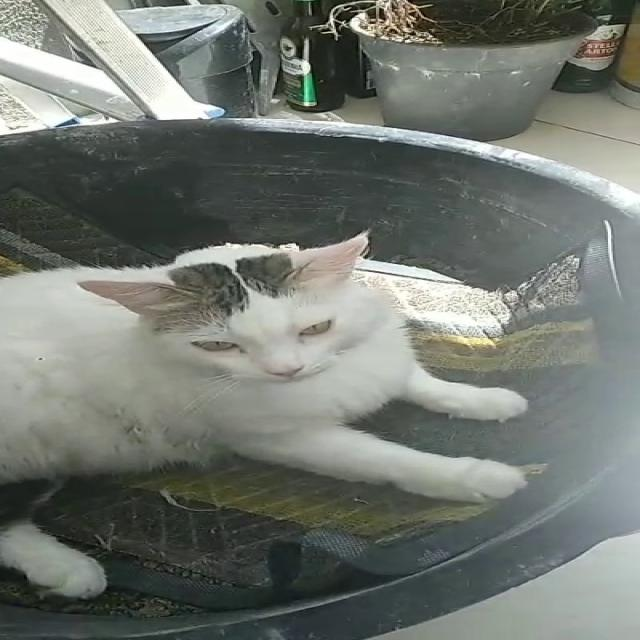Simba: (3, 218, 538, 606)
